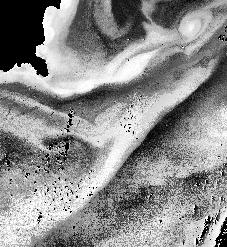CE: (178, 8, 214, 42)
